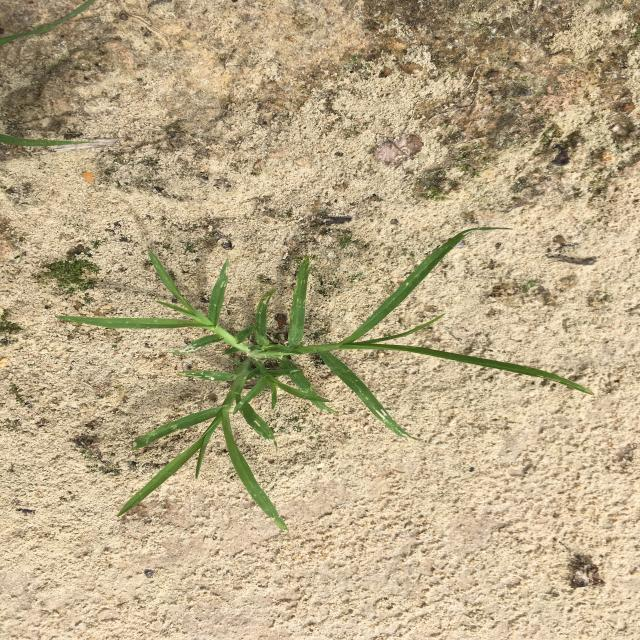Goosegrass: (55, 227, 594, 530)
